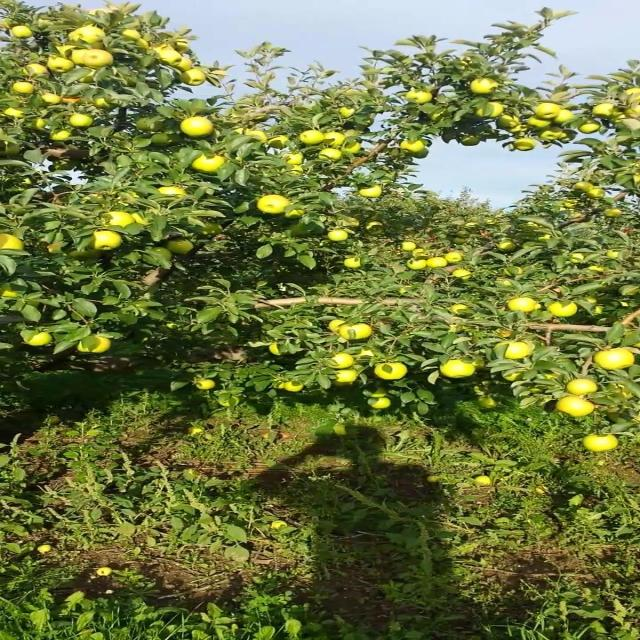apple: (596, 352, 635, 371), (191, 156, 228, 173), (77, 336, 114, 352), (561, 400, 597, 416), (447, 360, 476, 379), (92, 232, 121, 251), (262, 196, 290, 215), (340, 324, 373, 340), (184, 120, 213, 137), (589, 436, 619, 452), (84, 52, 114, 68), (77, 52, 107, 68), (376, 364, 405, 380), (568, 380, 597, 396), (476, 104, 505, 120), (504, 344, 533, 360), (70, 248, 105, 261), (77, 28, 107, 43), (106, 212, 133, 228), (170, 240, 196, 256), (156, 48, 180, 65), (49, 60, 76, 74), (77, 52, 100, 68), (28, 332, 52, 347), (596, 104, 620, 119), (540, 104, 562, 120), (134, 120, 162, 132), (476, 80, 498, 95), (184, 72, 206, 87), (148, 248, 171, 262), (6, 236, 27, 251), (326, 132, 347, 147), (511, 300, 535, 312), (269, 136, 292, 148), (333, 356, 356, 368), (404, 140, 427, 152), (554, 304, 576, 316), (70, 116, 92, 128), (412, 92, 434, 104), (28, 64, 50, 76), (497, 116, 519, 128), (554, 112, 576, 124), (618, 384, 635, 399), (13, 28, 36, 39), (13, 84, 36, 95), (461, 136, 482, 148), (518, 140, 539, 152), (284, 208, 306, 219), (56, 44, 76, 56), (305, 132, 324, 144), (625, 88, 639, 104), (362, 188, 384, 198), (163, 188, 187, 197), (582, 124, 601, 135), (6, 108, 25, 119), (620, 120, 639, 131), (333, 372, 356, 381), (291, 224, 308, 236), (319, 152, 341, 161), (504, 372, 526, 381), (248, 132, 270, 141), (212, 72, 228, 84), (198, 380, 215, 391), (63, 44, 76, 58), (447, 252, 462, 264), (454, 304, 469, 316), (589, 188, 604, 200), (412, 260, 427, 272), (42, 96, 62, 105), (177, 60, 192, 72), (156, 136, 174, 146), (6, 144, 21, 156), (497, 244, 519, 252), (284, 156, 306, 164), (284, 384, 306, 392), (532, 120, 553, 128), (269, 344, 283, 356), (84, 72, 98, 84), (285, 384, 306, 392), (333, 320, 348, 331), (49, 244, 64, 255), (561, 132, 576, 143), (205, 224, 220, 235), (340, 108, 356, 118), (540, 132, 556, 142), (618, 136, 638, 144), (99, 100, 116, 109), (348, 144, 363, 154), (625, 108, 638, 119), (575, 184, 592, 192), (568, 256, 585, 264), (333, 232, 348, 241), (56, 132, 71, 141), (134, 216, 149, 225), (134, 40, 149, 49), (6, 288, 21, 297), (177, 44, 192, 53), (412, 152, 428, 160), (433, 260, 448, 268), (348, 260, 363, 268), (483, 400, 498, 408), (376, 400, 391, 408), (127, 32, 142, 40), (348, 220, 363, 228), (511, 268, 526, 276), (454, 236, 469, 244), (291, 168, 306, 176), (333, 428, 348, 436), (369, 392, 388, 398), (404, 244, 420, 251), (212, 72, 228, 79), (35, 120, 46, 130), (456, 272, 471, 279), (412, 252, 427, 259), (497, 280, 512, 287), (625, 288, 638, 296), (433, 112, 446, 120), (348, 128, 361, 136), (604, 212, 624, 217), (511, 128, 530, 133), (561, 204, 578, 209), (77, 52, 85, 62), (589, 296, 599, 304), (632, 108, 639, 119), (589, 268, 604, 273), (611, 252, 620, 260), (632, 176, 639, 185), (540, 236, 551, 241), (369, 224, 382, 228), (596, 308, 604, 314)
